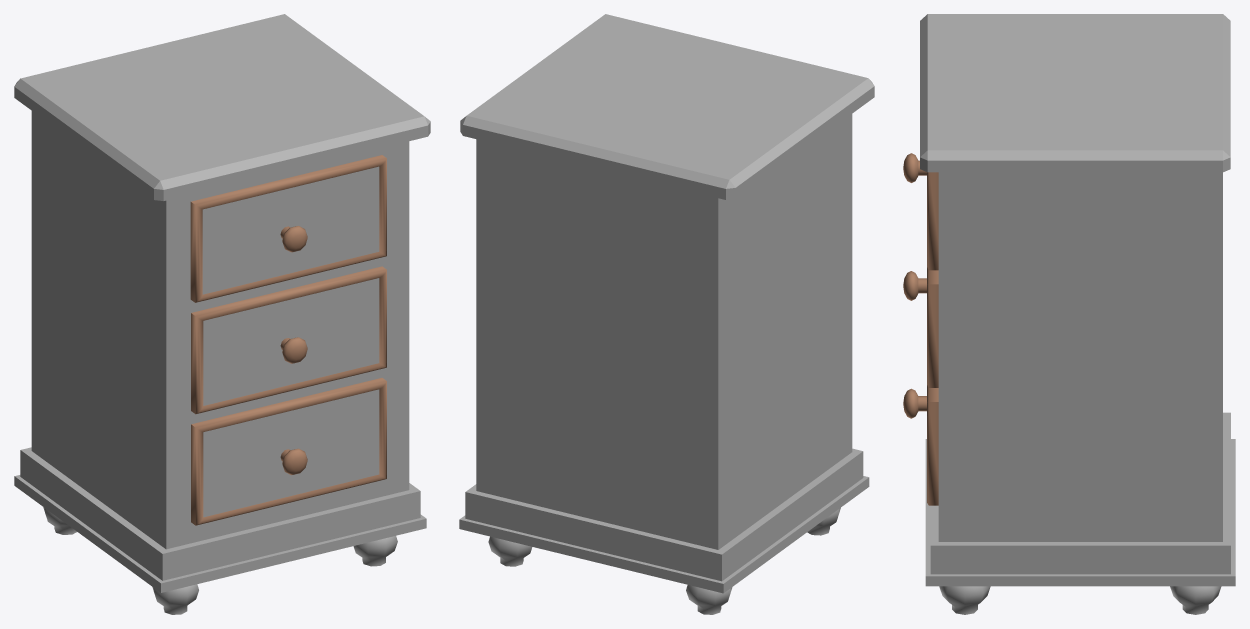
Rendered from commode_1.fbx.
3 renders of one model, left to right at view 1: azimuth 30°, elevation 25°; view 2: azimuth 150°, elevation 25°; view 3: azimuth 270°, elevation 25°, orthographic. The views are drawn at different scales.
Parts seen in each view (by area): view 1: commode1; view 2: commode1; view 3: commode1.
Boxes of the visible parts, x1,y1,x2,y2 form: commode1: [14, 14, 430, 614]; commode1: [459, 14, 874, 614]; commode1: [903, 14, 1235, 614].
Bounding box in the file's own units: 9.51 × 14.77 × 9.35.
